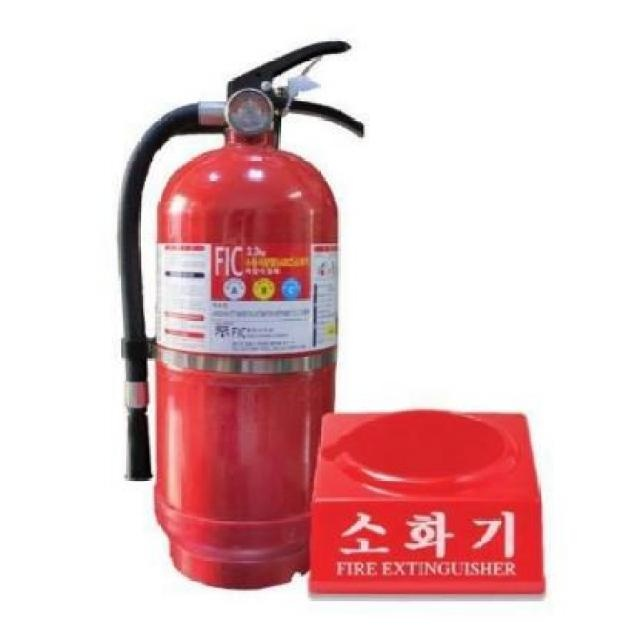fire extinguisher: (118, 38, 365, 594)
